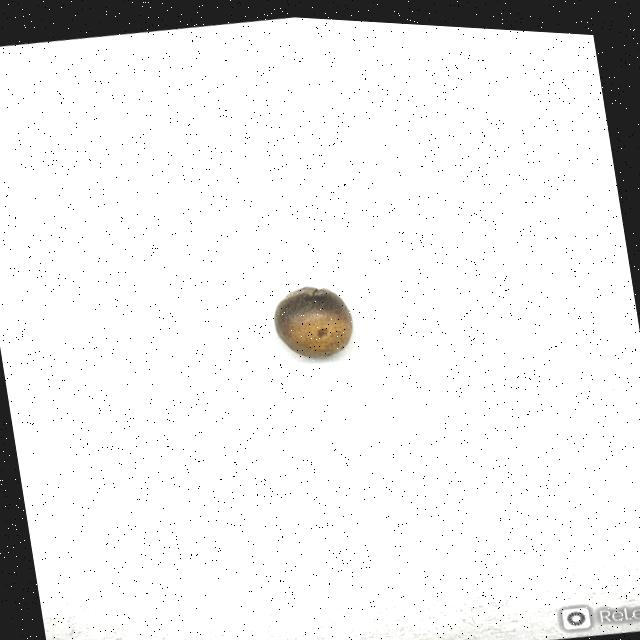Insect damage: (268, 277, 359, 359)
